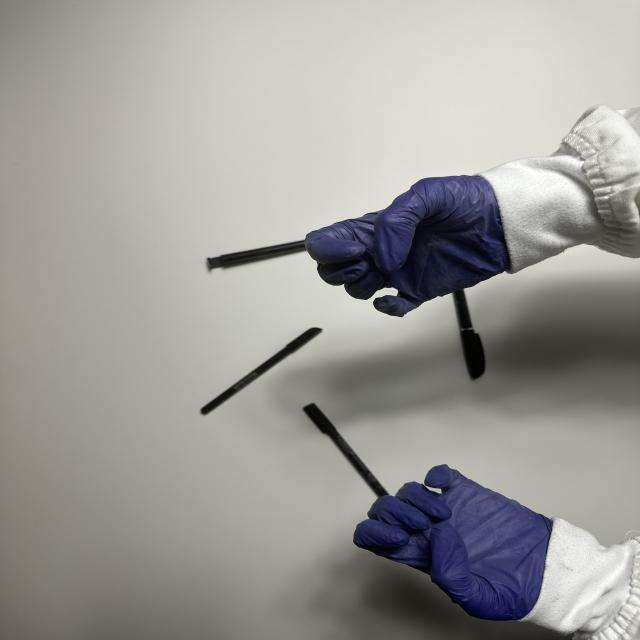gloves_contaminated: (354, 465, 552, 620), (306, 176, 510, 317)
